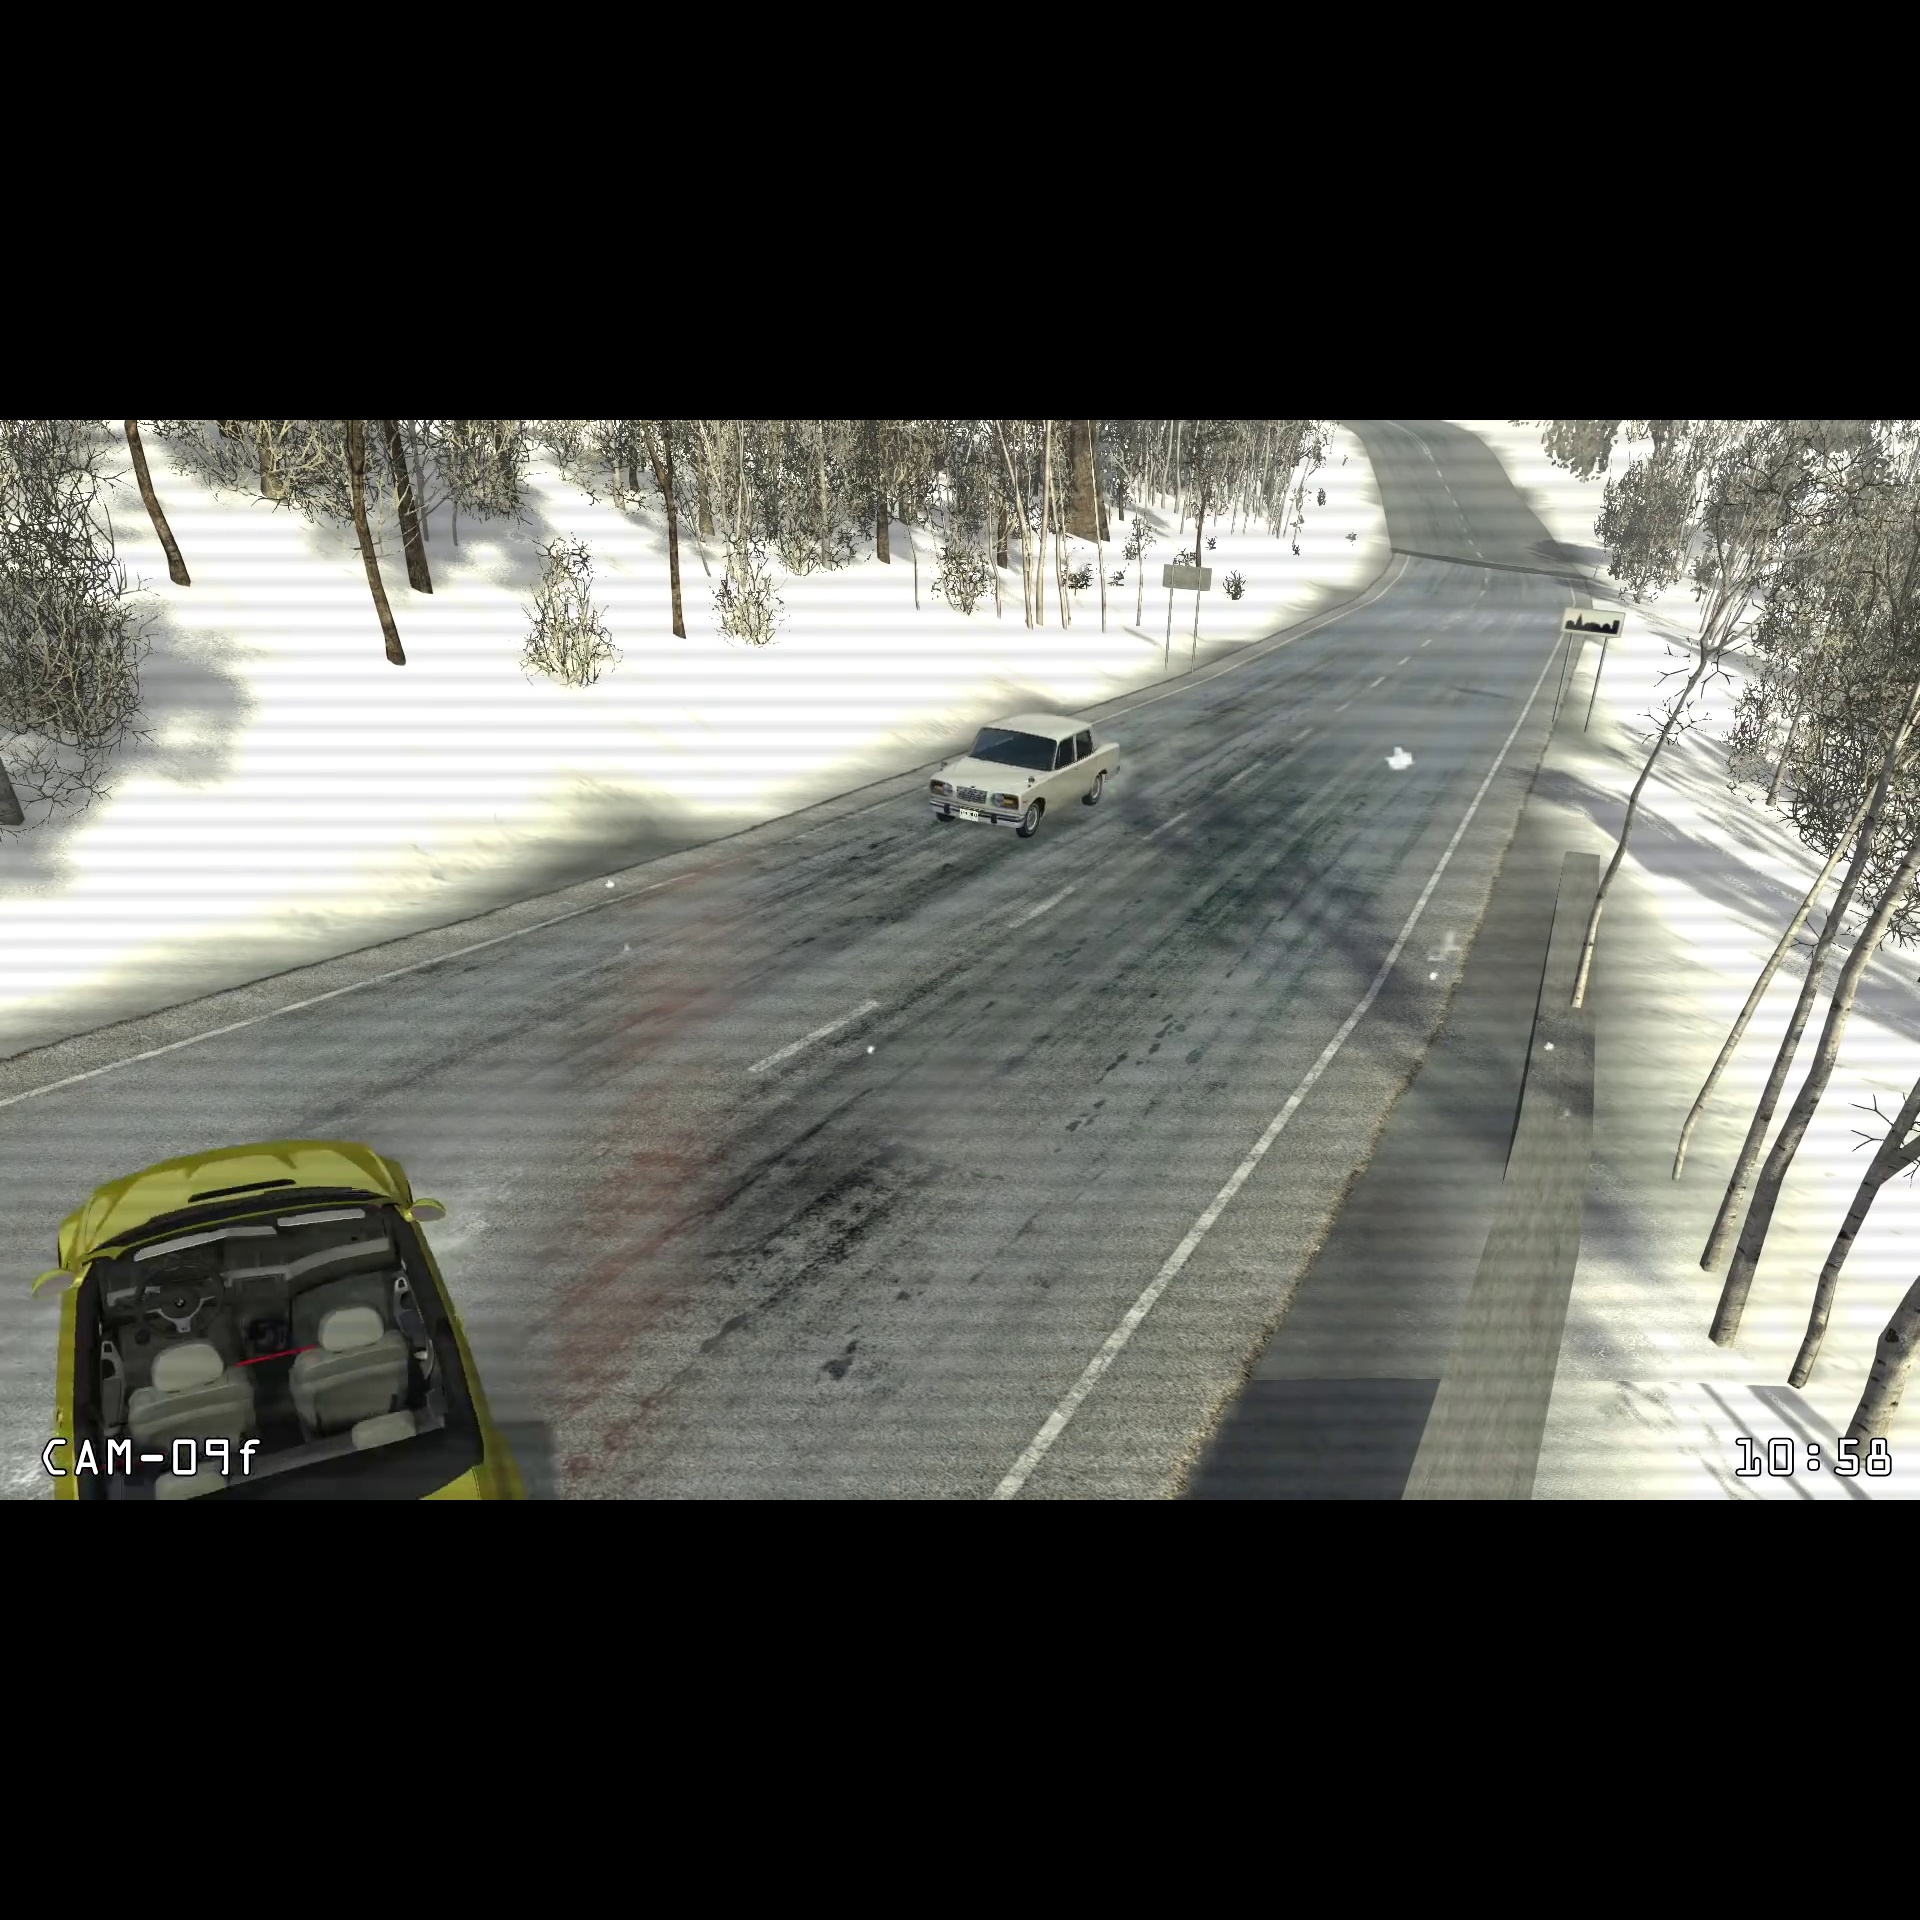vehicle: (35, 1124, 547, 1500), (925, 707, 1136, 844)
